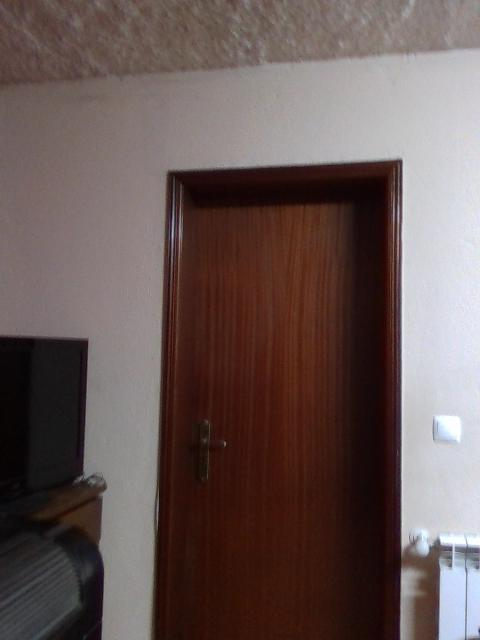door: (177, 188, 387, 640)
